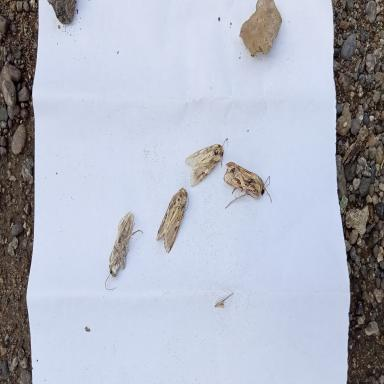pbw: (106, 210, 142, 291), (154, 182, 188, 254), (185, 136, 229, 190), (225, 161, 272, 211)
